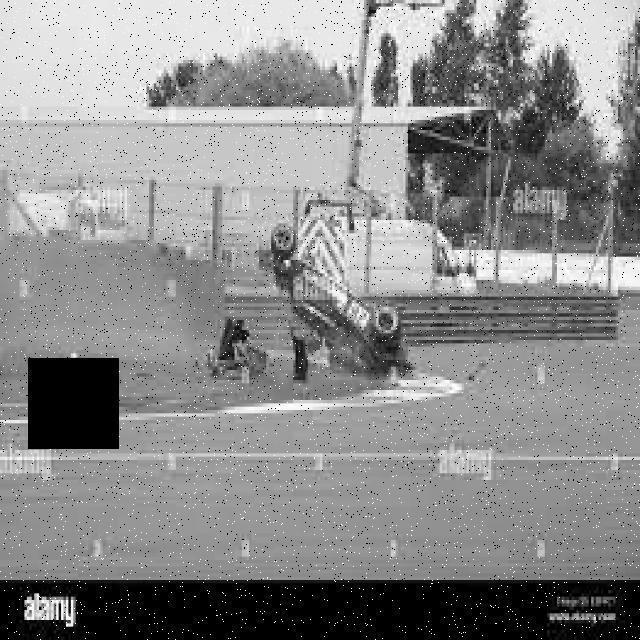accident: (258, 217, 415, 387)
vehicle: (357, 216, 481, 295), (10, 187, 131, 245)
